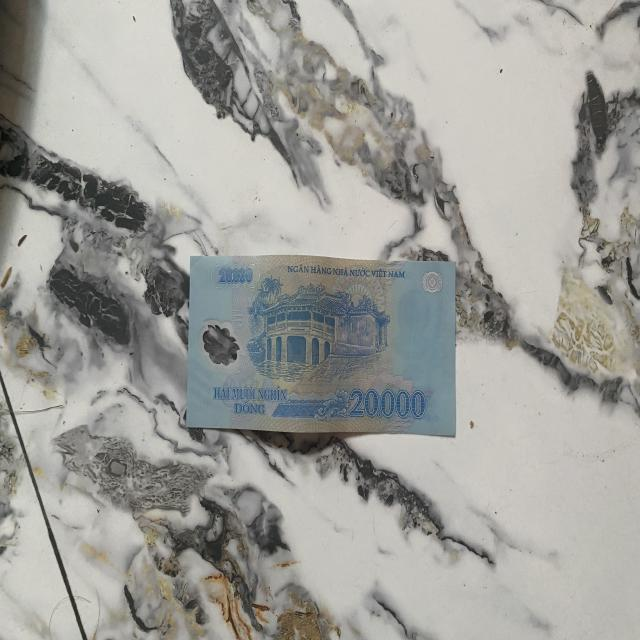20 000 VND: (184, 253, 458, 438)
